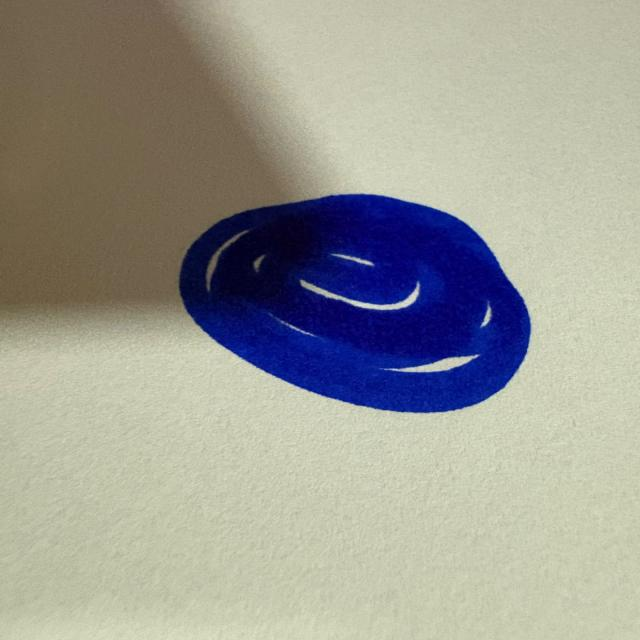Circle: (172, 188, 538, 420)
